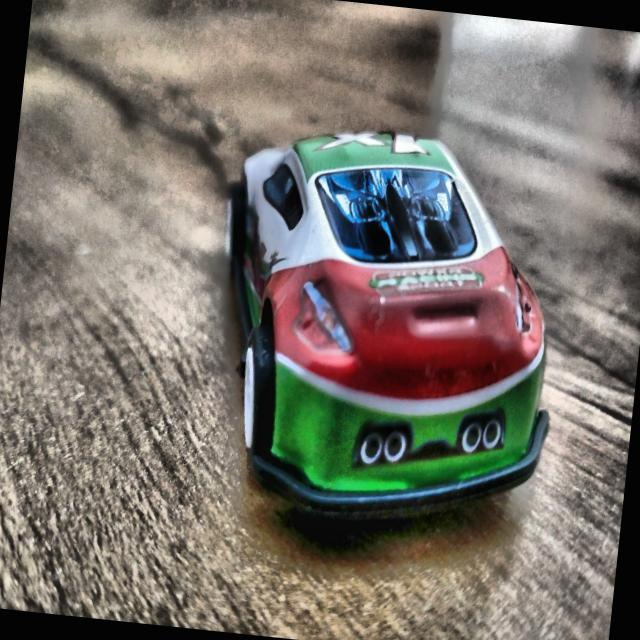Car: (191, 112, 587, 564)
